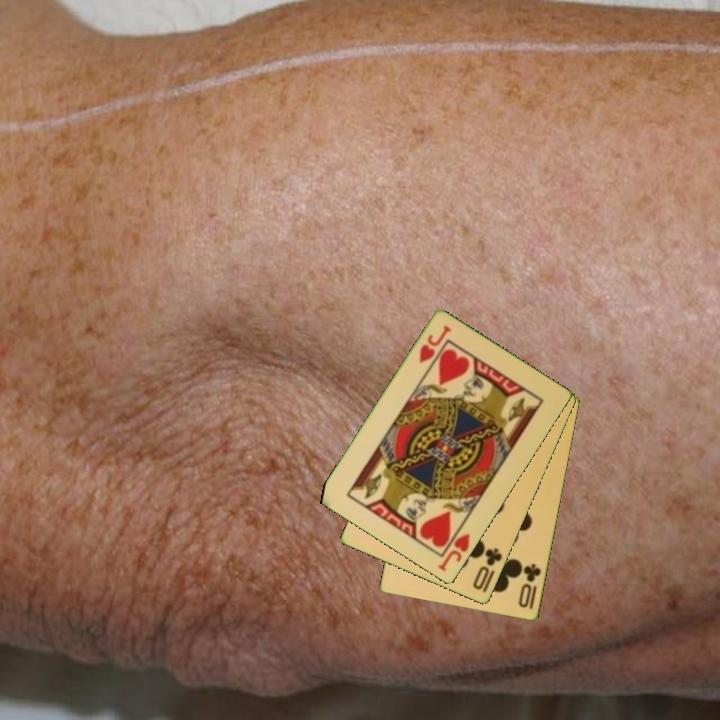10c: (469, 545, 505, 596), (515, 560, 544, 612)
Jh: (434, 521, 473, 574), (415, 322, 453, 366)
